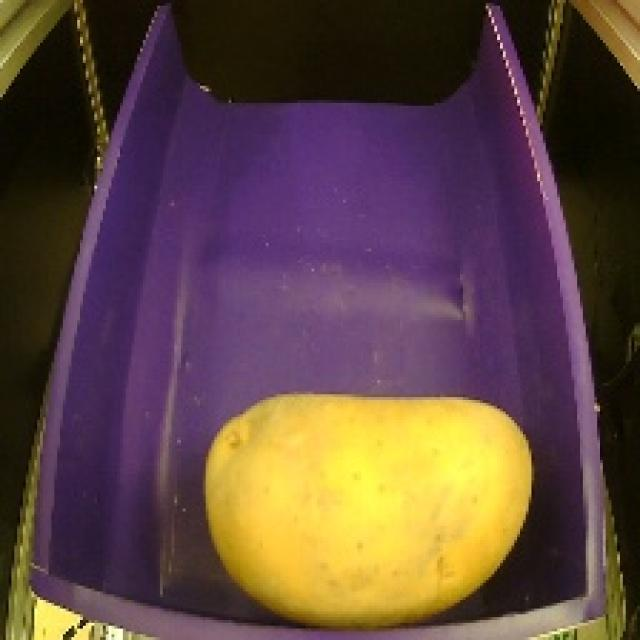full_potato: (198, 374, 540, 640)
